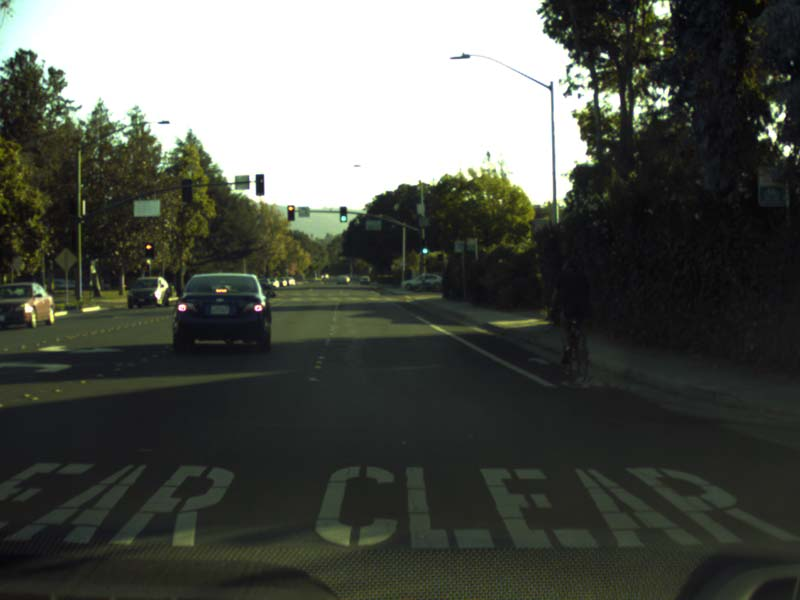Green: (339, 206, 347, 221), (420, 239, 426, 254)
Red: (145, 241, 152, 257), (286, 205, 293, 220)
